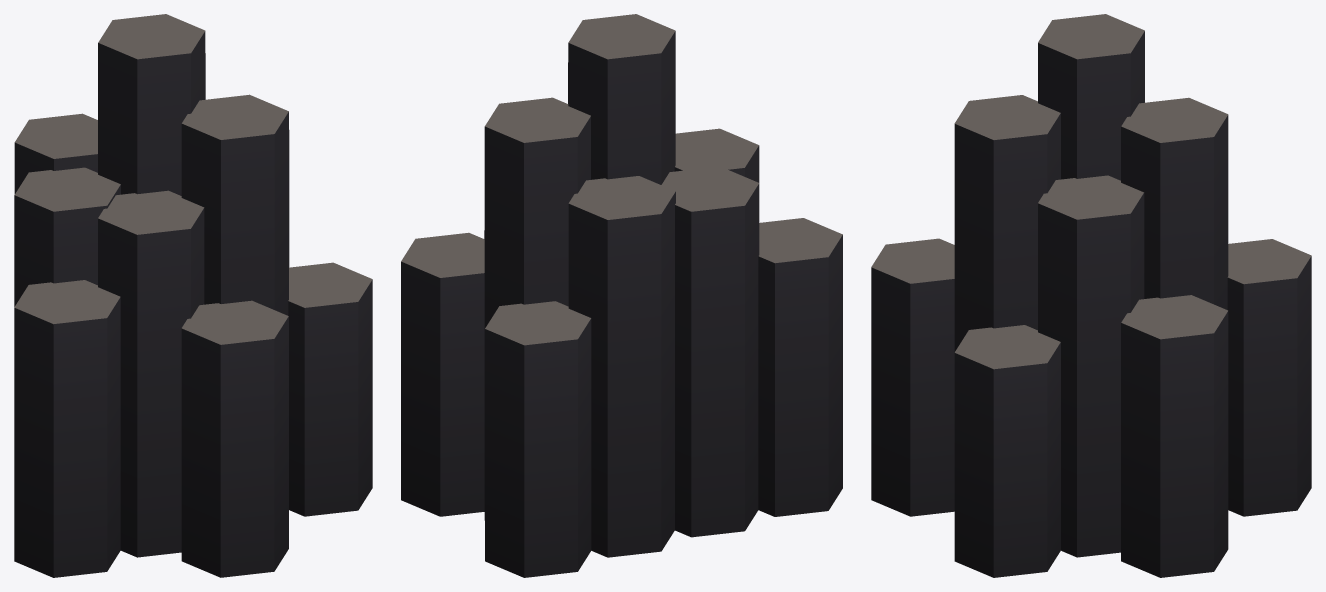
The model's file is basalt_columns_02.glb.
3 views of the same model, side by side, from view 1: azimuth 30°, elevation 25°; view 2: azimuth 150°, elevation 25°; view 3: azimuth 270°, elevation 25° (orthographic).
Parts seen in each view (by area): view 1: basalt_columns_02_LOD0; view 2: basalt_columns_02_LOD0; view 3: basalt_columns_02_LOD0.
Boxes of the visible parts, <box> form: basalt_columns_02_LOD0: <box>14,14,372,577</box>; basalt_columns_02_LOD0: <box>401,14,842,577</box>; basalt_columns_02_LOD0: <box>871,14,1311,577</box>.
Size of what is drawn, in the model's own units: 2.29 by 2.91 by 2.54.
1 material, 1 textured.
